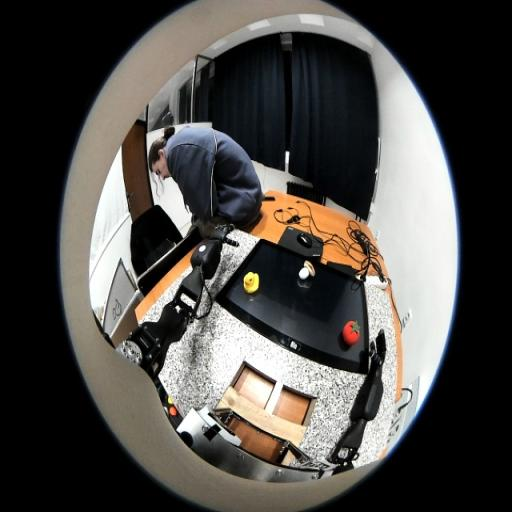Duck: (243, 272, 259, 293)
LeftHand: (210, 230, 226, 238)
Mushroom: (299, 260, 315, 279)
RightHand: (370, 354, 385, 370)
Tomato: (343, 320, 360, 344)
